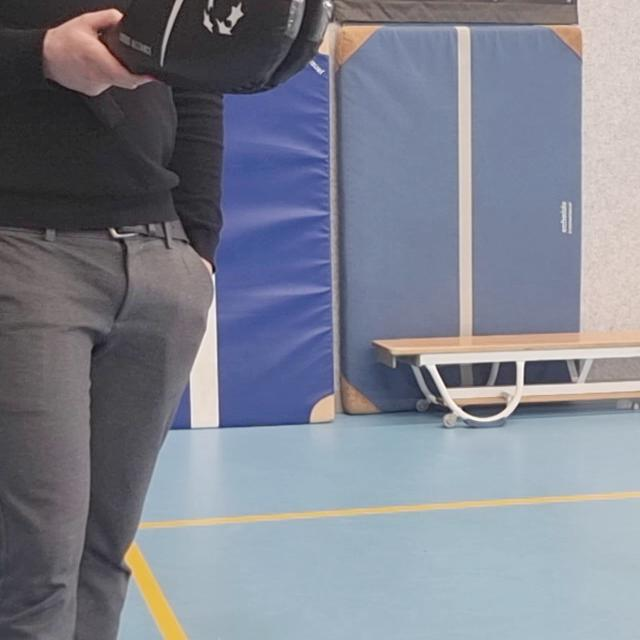paddle: (95, 0, 333, 90)
